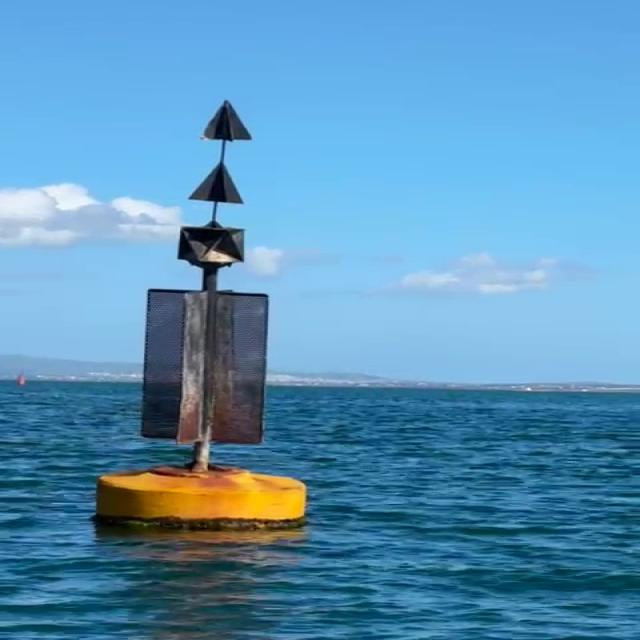marque: (99, 93, 305, 535)
